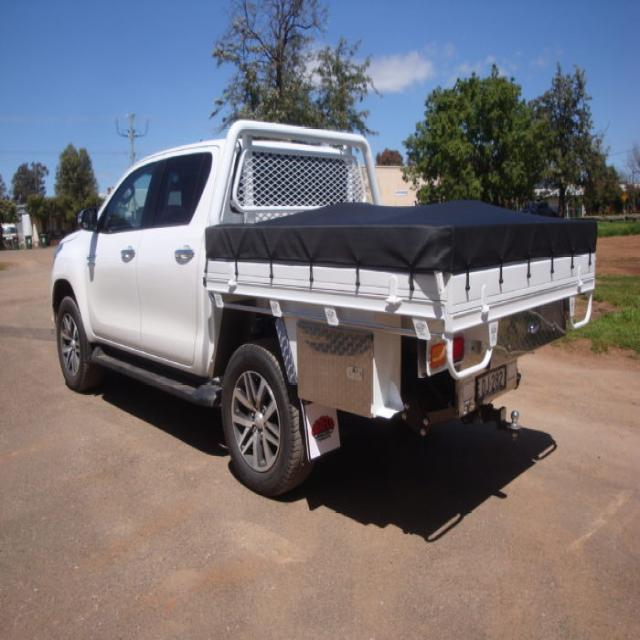light_vehicle: (30, 114, 603, 504)
